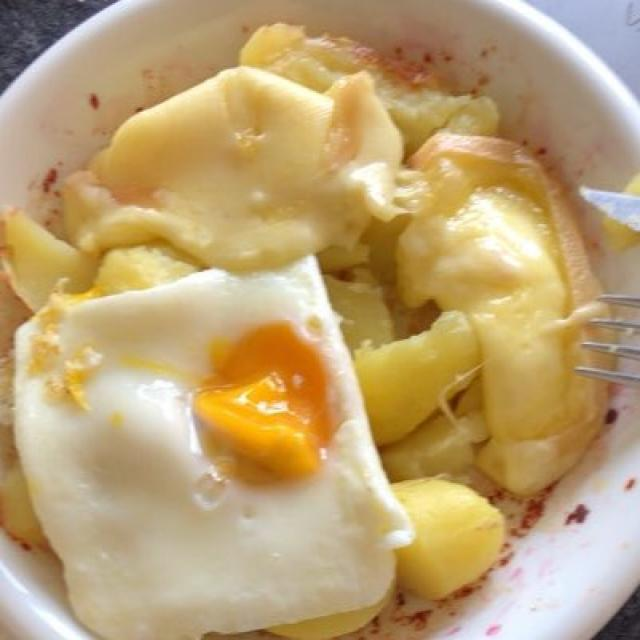cheese-for-raclette: (48, 80, 614, 493)
egg: (21, 245, 409, 627)
potatoes-steamed: (5, 30, 529, 630)
